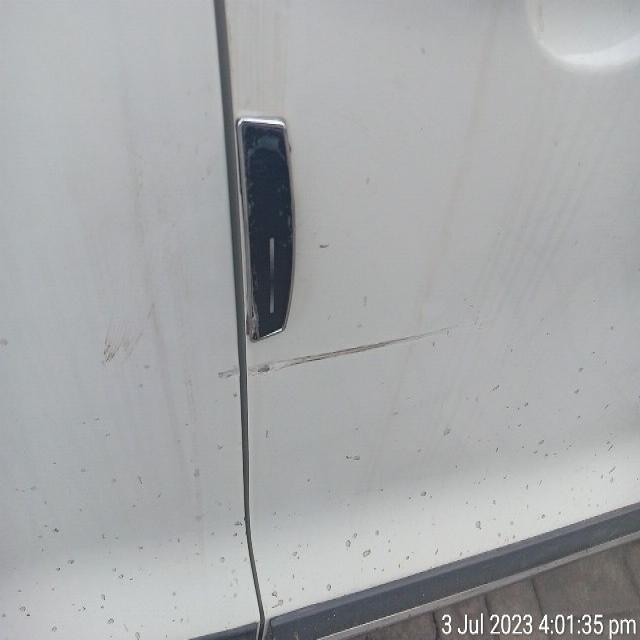damage: (244, 327, 495, 381), (198, 354, 241, 391)
